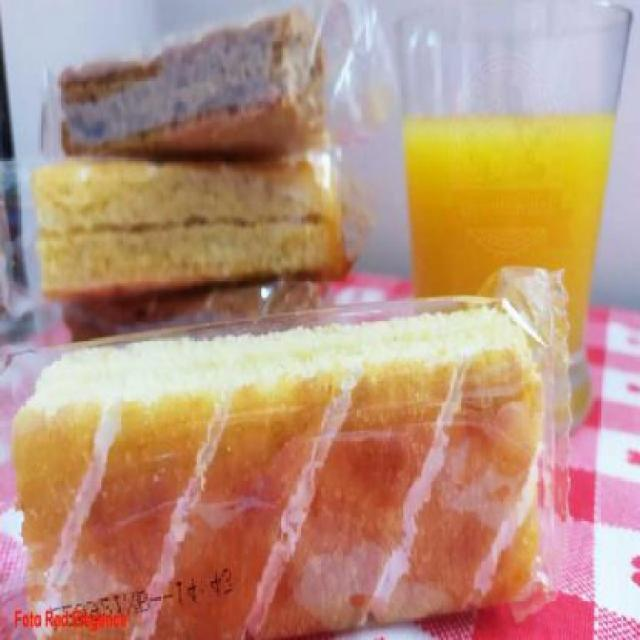Merendine packaged: (2, 307, 556, 622), (14, 143, 372, 308), (25, 8, 344, 168)
